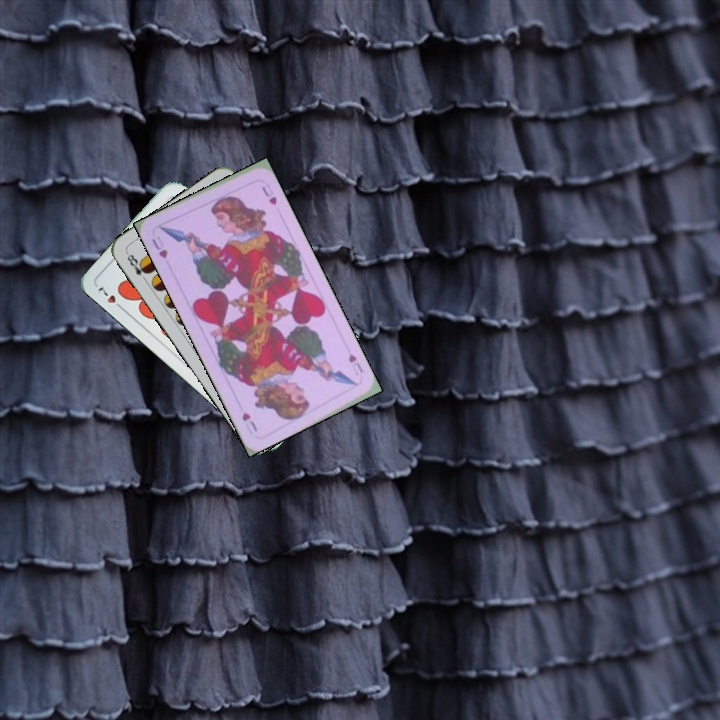E8: (122, 249, 152, 285)
H7: (94, 283, 127, 313)
HU: (148, 232, 170, 261), (344, 350, 366, 378)
